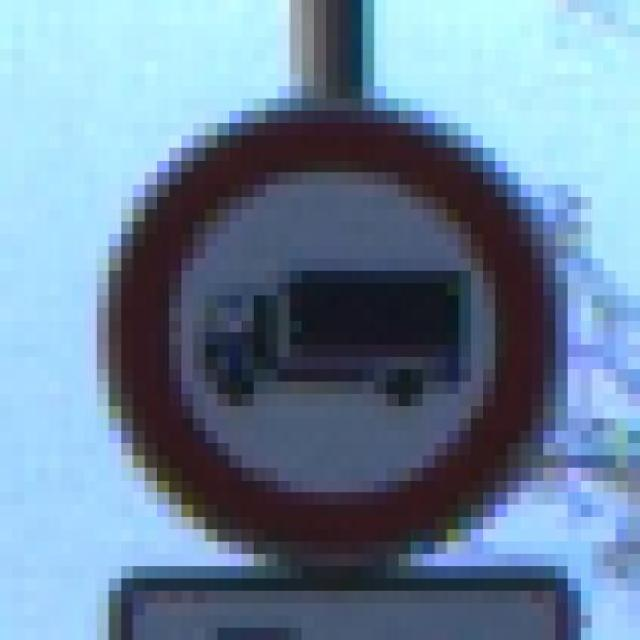Truck traffic is prohibited: (97, 74, 580, 566)
